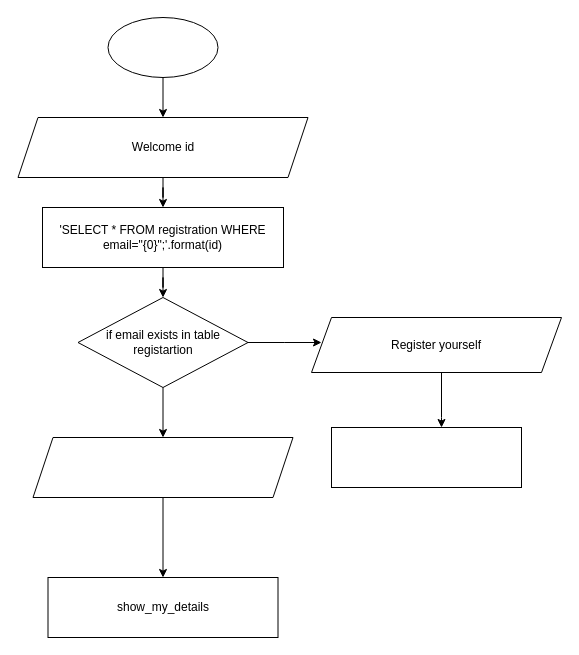
The diagram is 579 pixels wide and 655 high, and some of its shapes have lost their labels. The box of each missing label's shape, as (x1, y1, x2, y2) in pixels:
register: (330, 426, 522, 488)
Show my details: (32, 436, 293, 498)
START: (107, 16, 218, 78)
